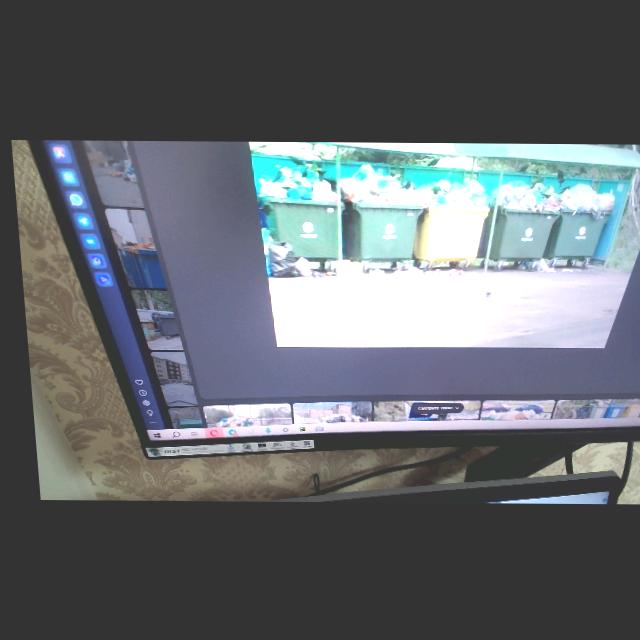Trash_Can_Full: (333, 163, 424, 259), (254, 165, 346, 259), (405, 176, 491, 261), (475, 178, 561, 259), (536, 183, 616, 258)
